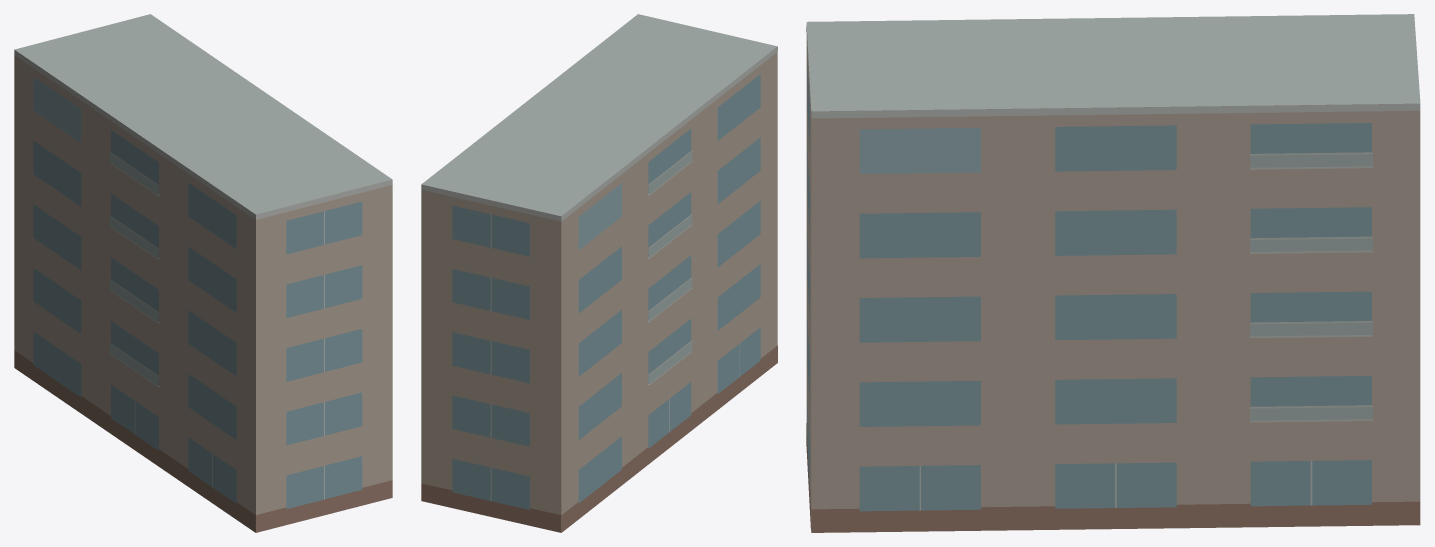
Rendered from survey-upis-32934153.glb.
3 renders of one model, left to right at view 1: azimuth 30°, elevation 25°; view 2: azimuth 150°, elevation 25°; view 3: azimuth 270°, elevation 25°, orthographic. The views are drawn at different scales.
Parts seen in each view (by area): view 1: survey-upis-32934153.tmp; view 2: survey-upis-32934153.tmp; view 3: survey-upis-32934153.tmp.
Boxes of the visible parts, x1,y1,x2,y2 form: survey-upis-32934153.tmp: (14,14,392,532); survey-upis-32934153.tmp: (421,14,777,532); survey-upis-32934153.tmp: (806,14,1420,532).
Size of the model in its own units: 7.17 by 14.45 by 19.09.
